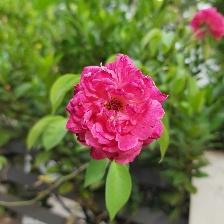rose: (65, 53, 171, 167)
